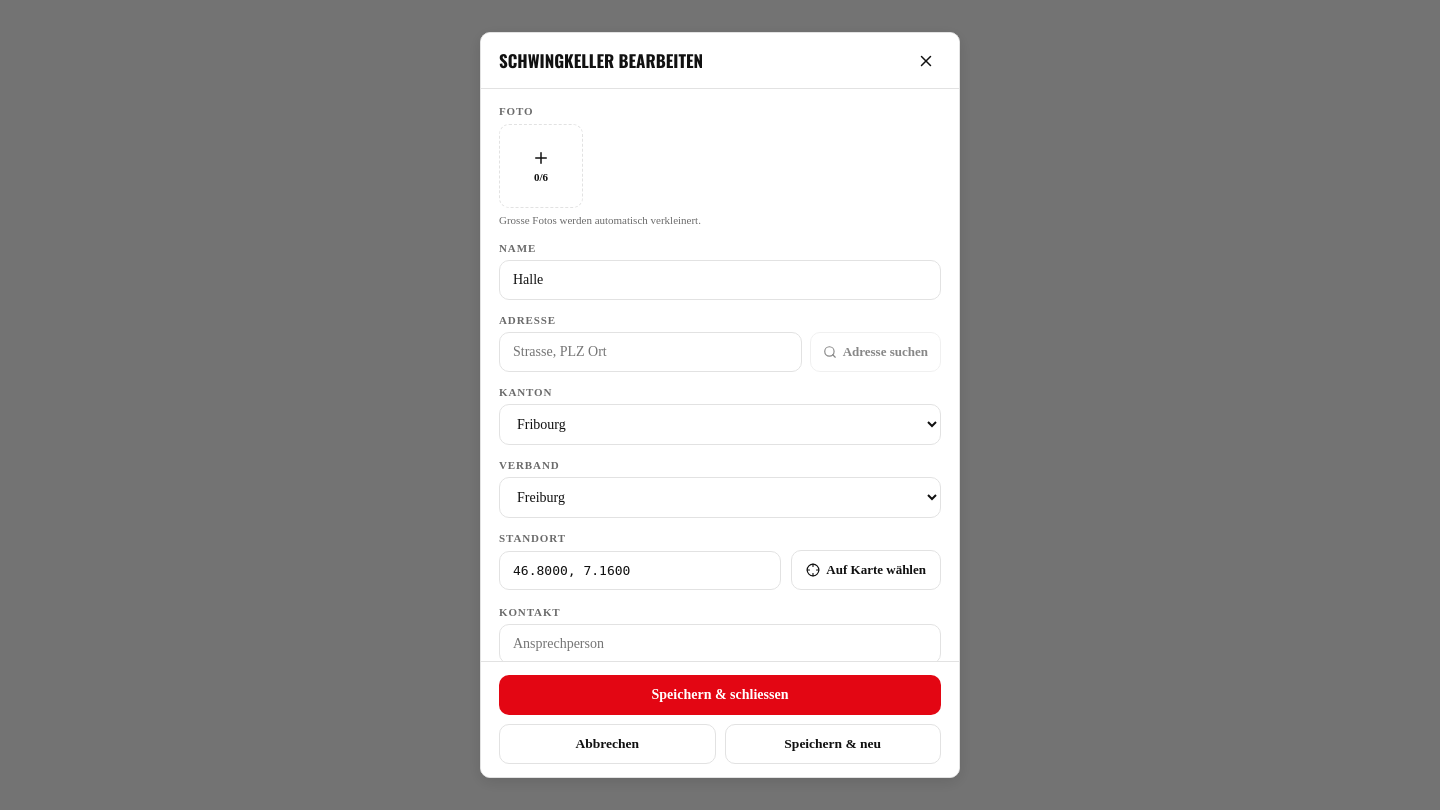
Test: EditForm association and address › clears "not found" when a later search succeeds
In the field labelled "Adresse": point(650, 352) [499,332,802,372], type "Murtengasse 18, 1700 Fribourg"
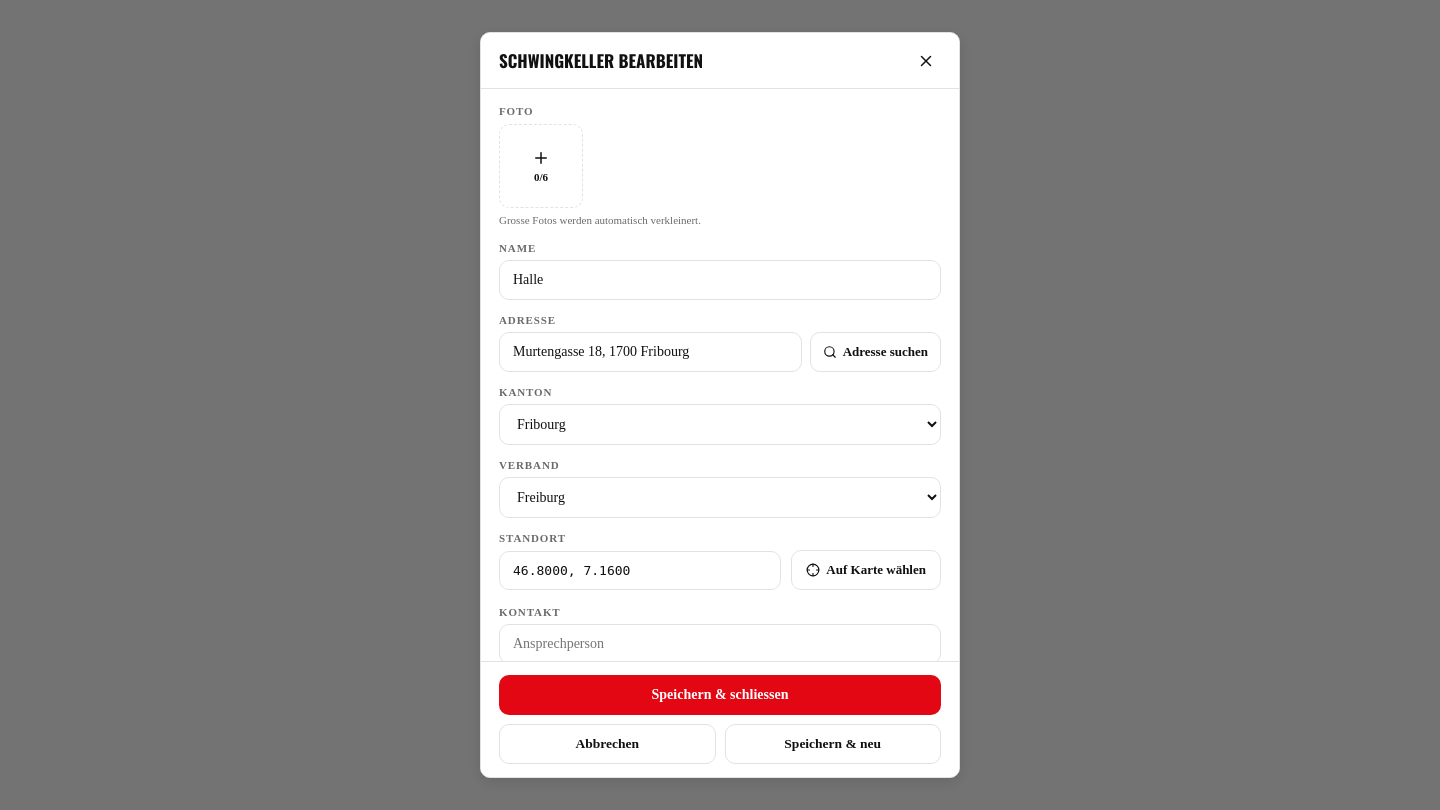
Click the button "Adresse suchen": point(875, 352) [810,332,941,372]
Wait 100 ms
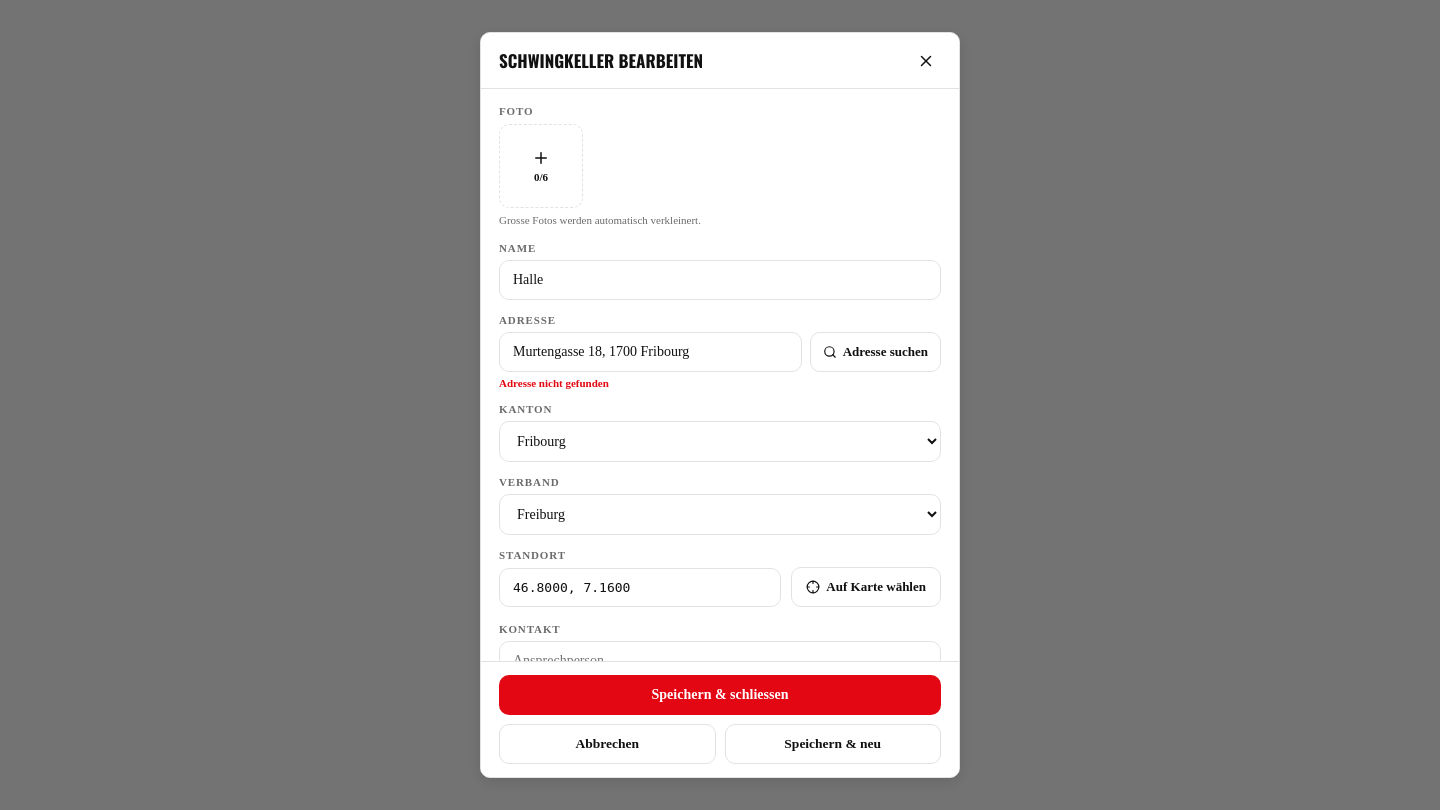
Expected: the text "Adresse nicht gefunden" is shown, [499,377,609,389]
Click the button "Adresse suchen": point(875, 352) [810,332,941,372]
Wait 100 ms
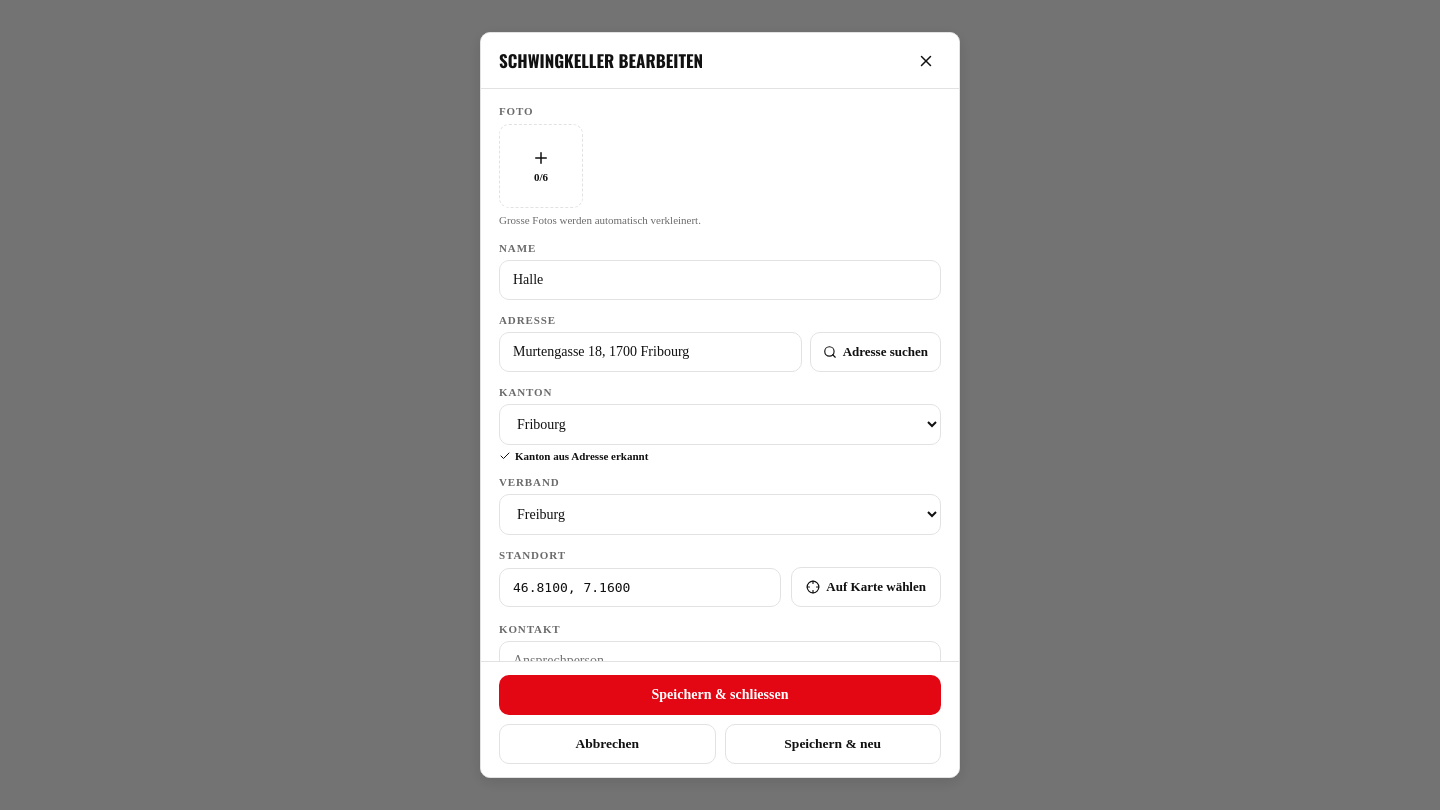
Expected: the text "Adresse nicht gefunden" is gone
